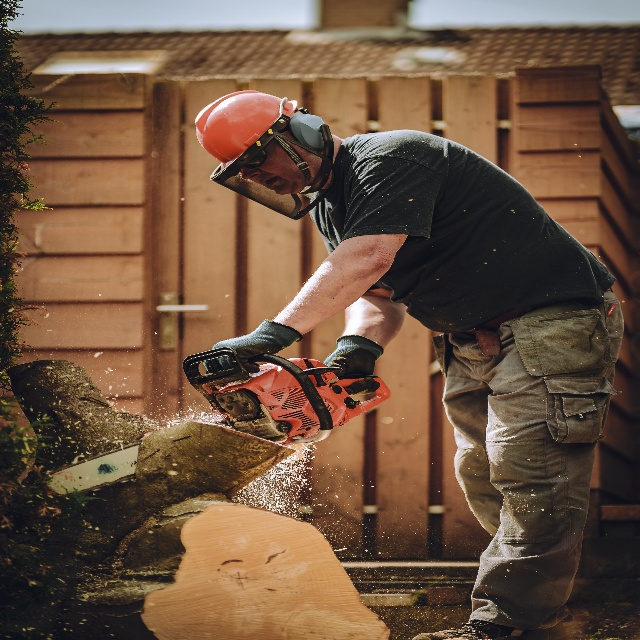Guantes: (203, 316, 304, 373), (321, 331, 385, 396)
